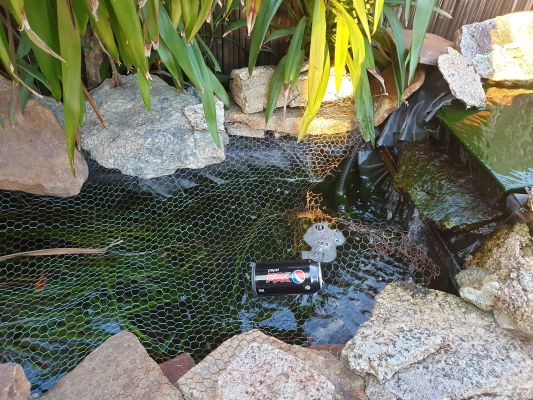Plastic Bottle: (251, 259, 322, 296)
